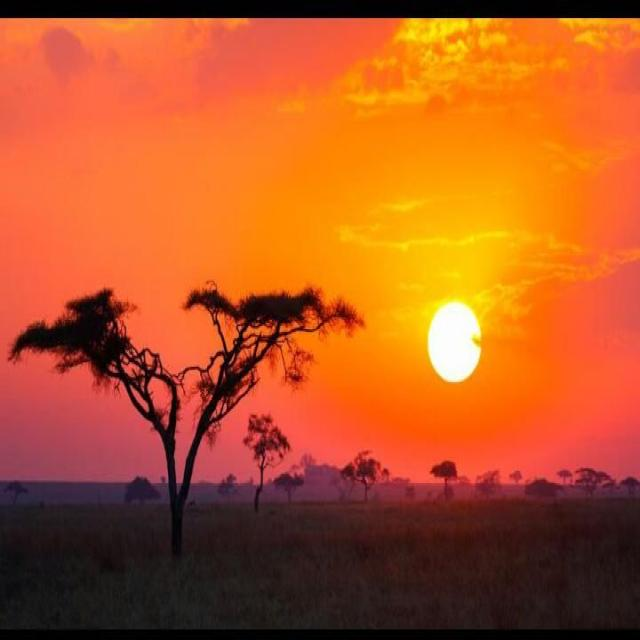Acacia: (8, 280, 335, 531)
